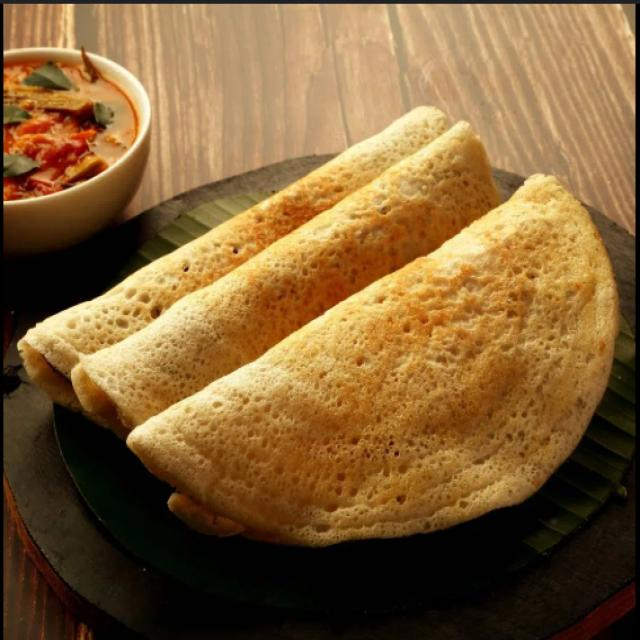DOSA: (18, 102, 622, 540)
VEGGIES: (1, 62, 138, 203)
